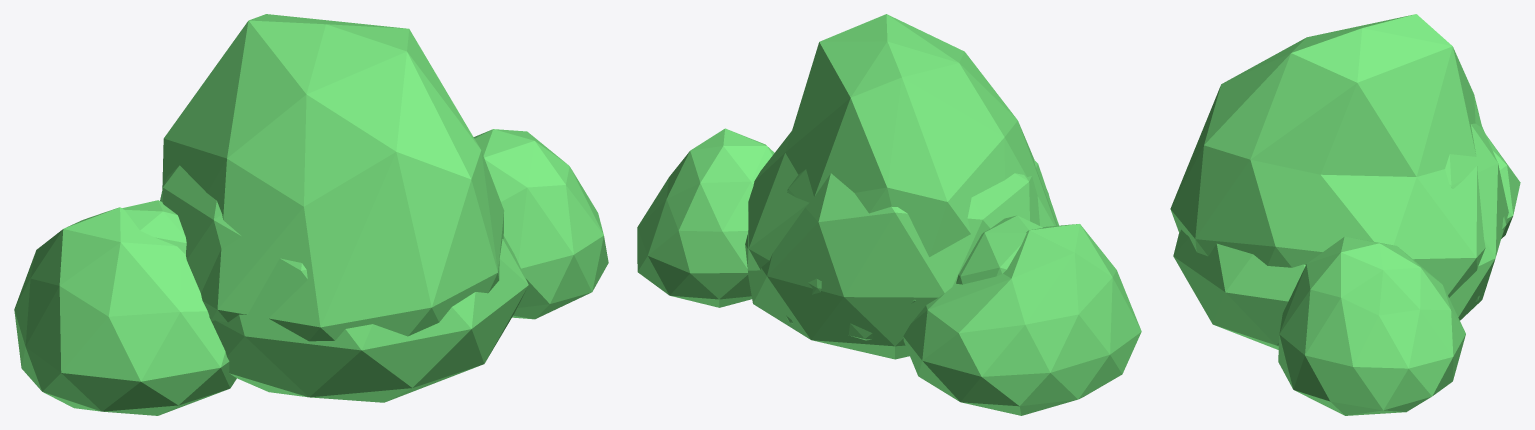
The model's file is Bushs.fbx.
3 renders of one model, left to right at view 1: azimuth 30°, elevation 25°; view 2: azimuth 150°, elevation 25°; view 3: azimuth 270°, elevation 25°, orthographic. The views are drawn at different scales.
Visible parts, largest first — view 1: Bush 2, Bush 1; view 2: Bush 1, Bush 2; view 3: Bush 2, Bush 1.
Part boxes in pixels (x1,y1,x2,y2): Bush 2: (122,14,503,341); Bush 1: (14,129,608,415); Bush 1: (637,128,1141,415); Bush 2: (747,14,1057,340); Bush 2: (1170,14,1506,301); Bush 1: (1173,123,1520,415).
Size of the model in its own units: 153 by 93.05 by 95.26.
